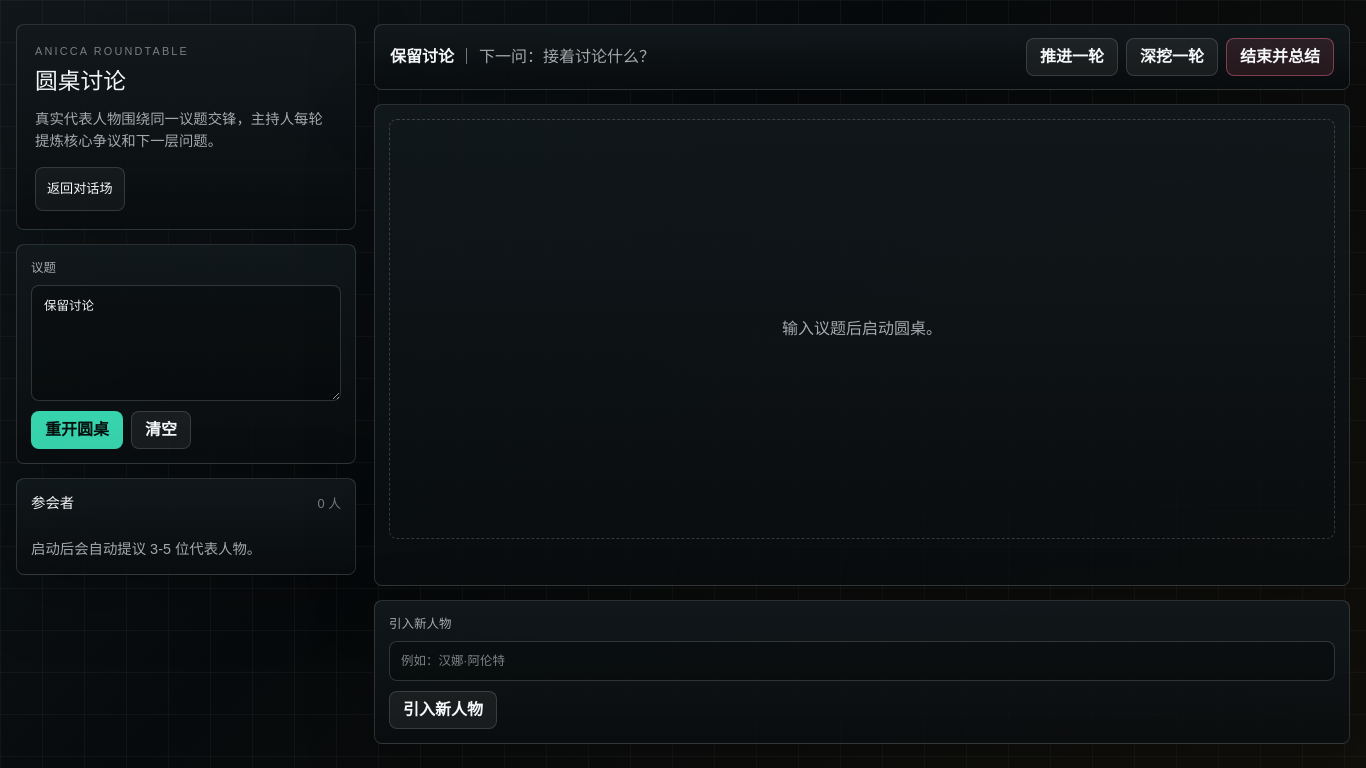
Test: requires a new confirmation after the topic is edited
The width and height of the screenshot is (1366, 768).
Click the button "清空": point(161, 430) [131,411,191,449]
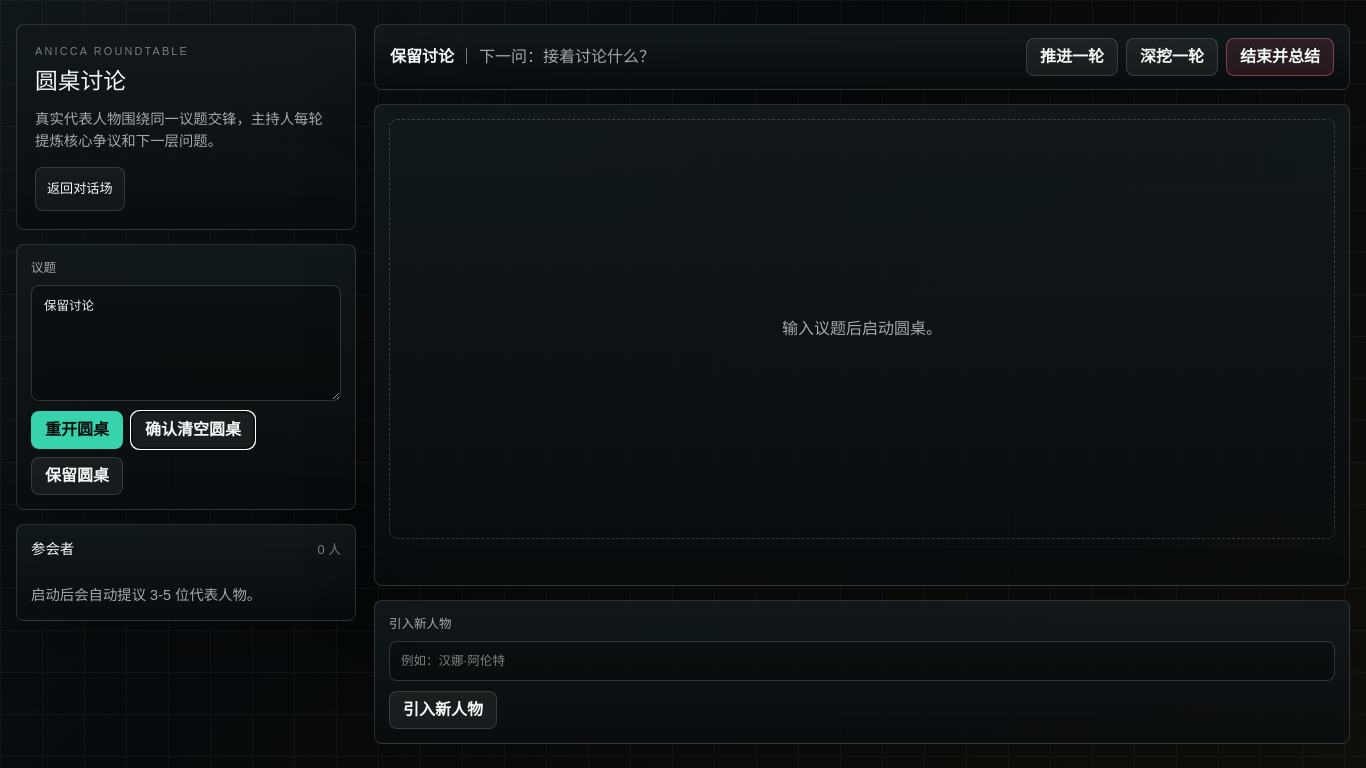
In the text box with placeholder "例如：AI 是否拥有真正的创造力？": point(186, 343) [31,285,341,401], type "，补充"
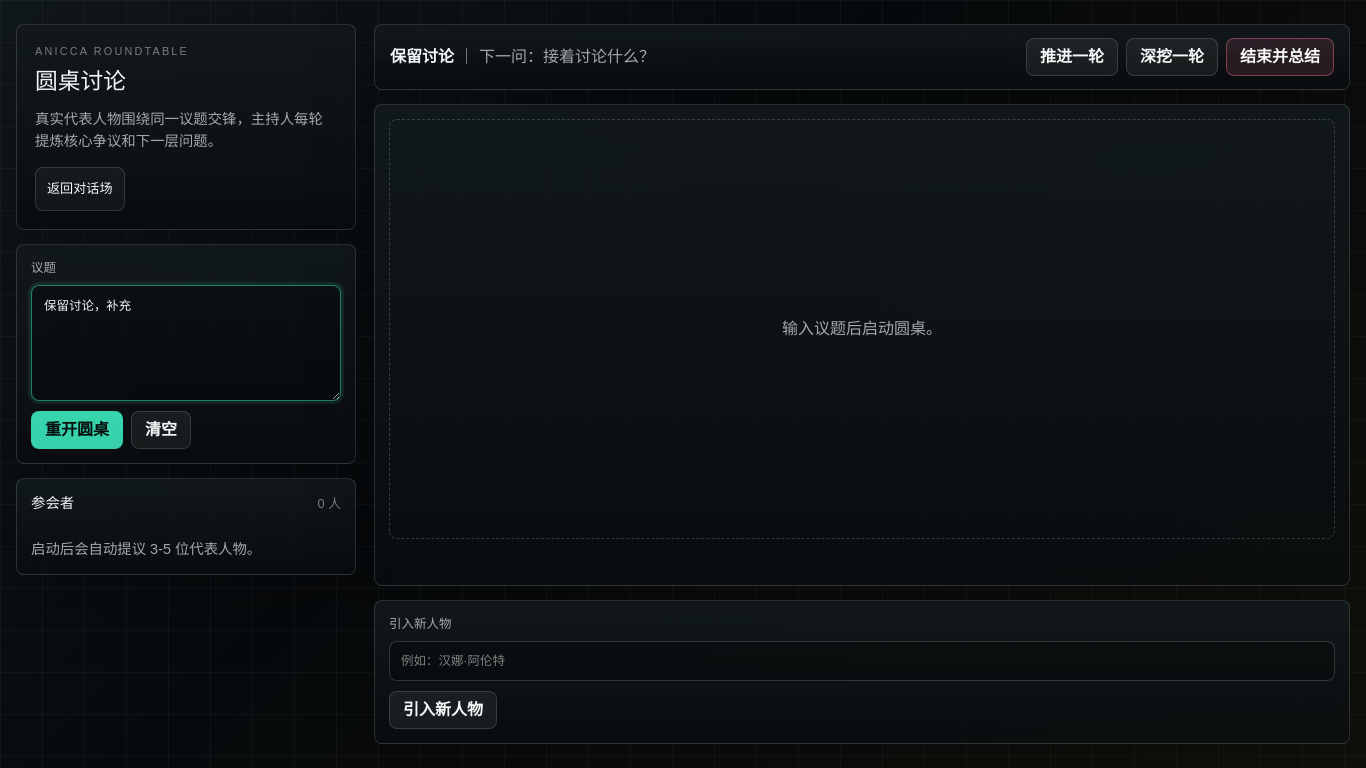
Check: the button "确认清空圆桌" is gone
